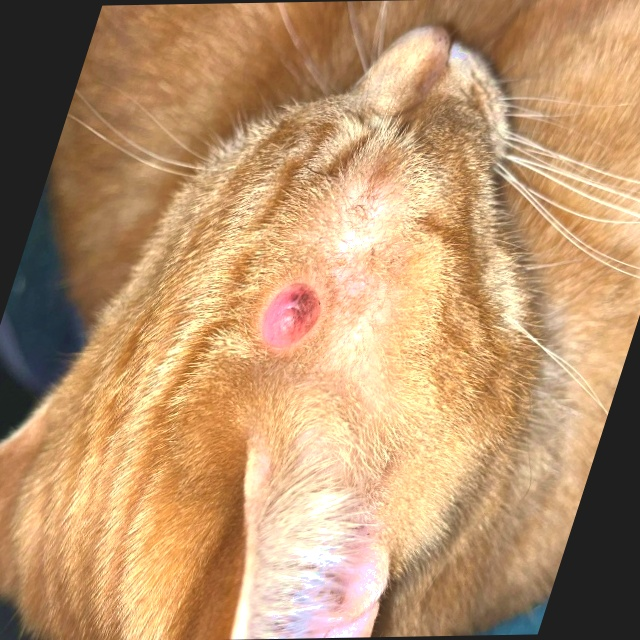lump_and_bump: (249, 281, 332, 355)
